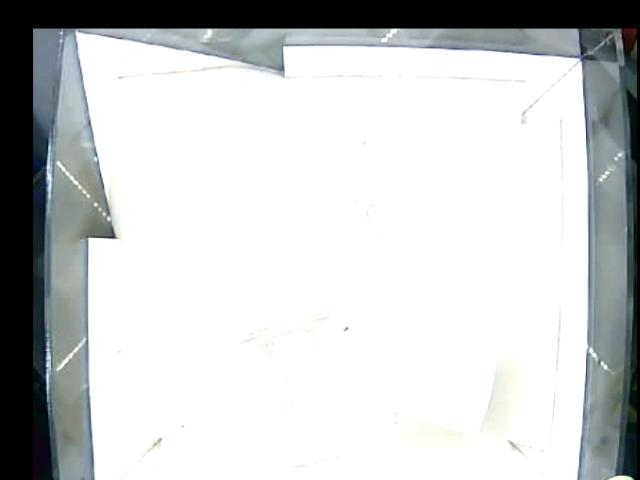Bottle: (233, 264, 366, 466), (318, 158, 463, 267)
Cup: (385, 340, 505, 436)
